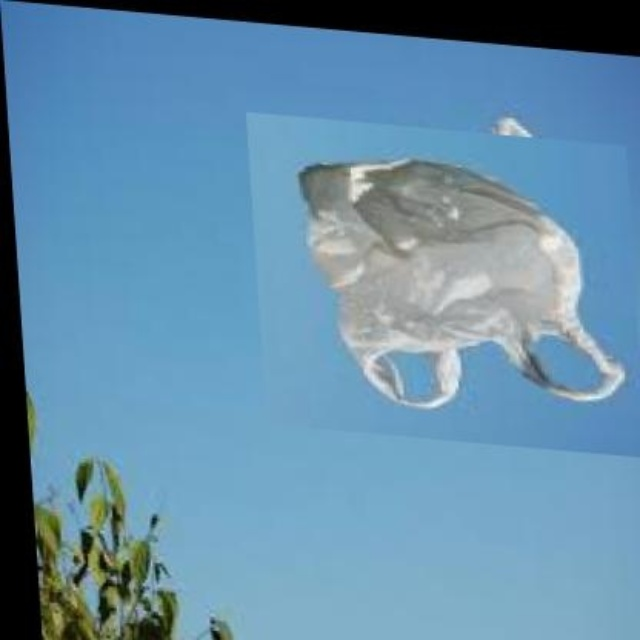trash: (298, 160, 623, 408)
